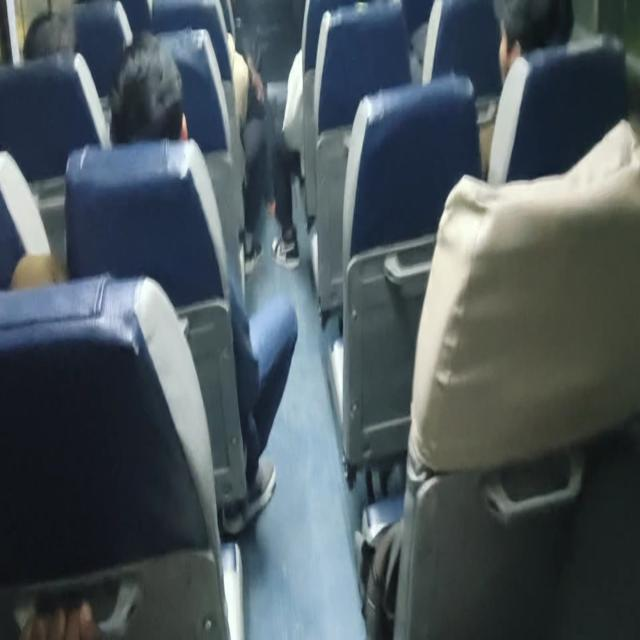person: (101, 51, 209, 144), (485, 0, 570, 99), (11, 4, 84, 71), (175, 0, 231, 50)
